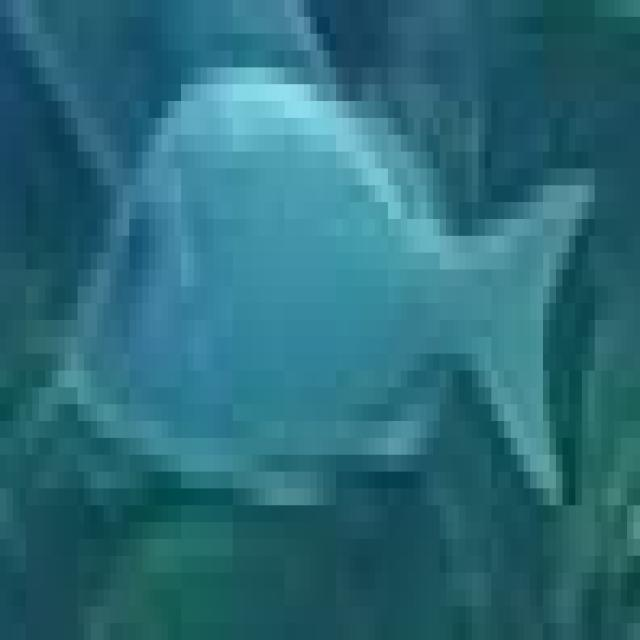fish: (0, 17, 634, 640)
